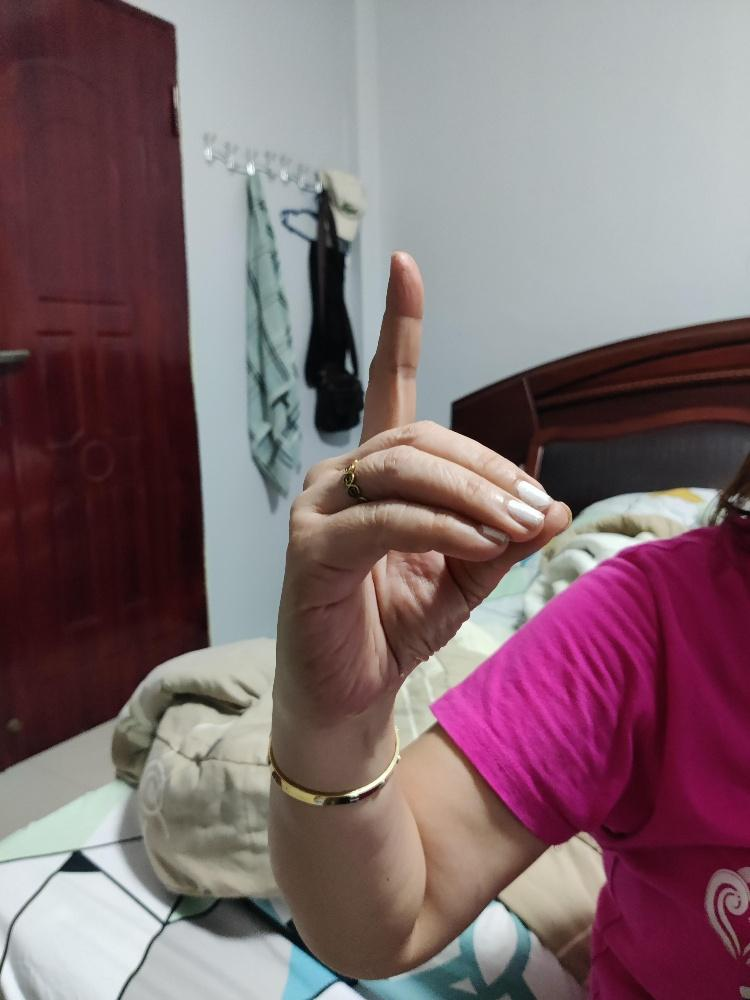d: (274, 248, 575, 718)
